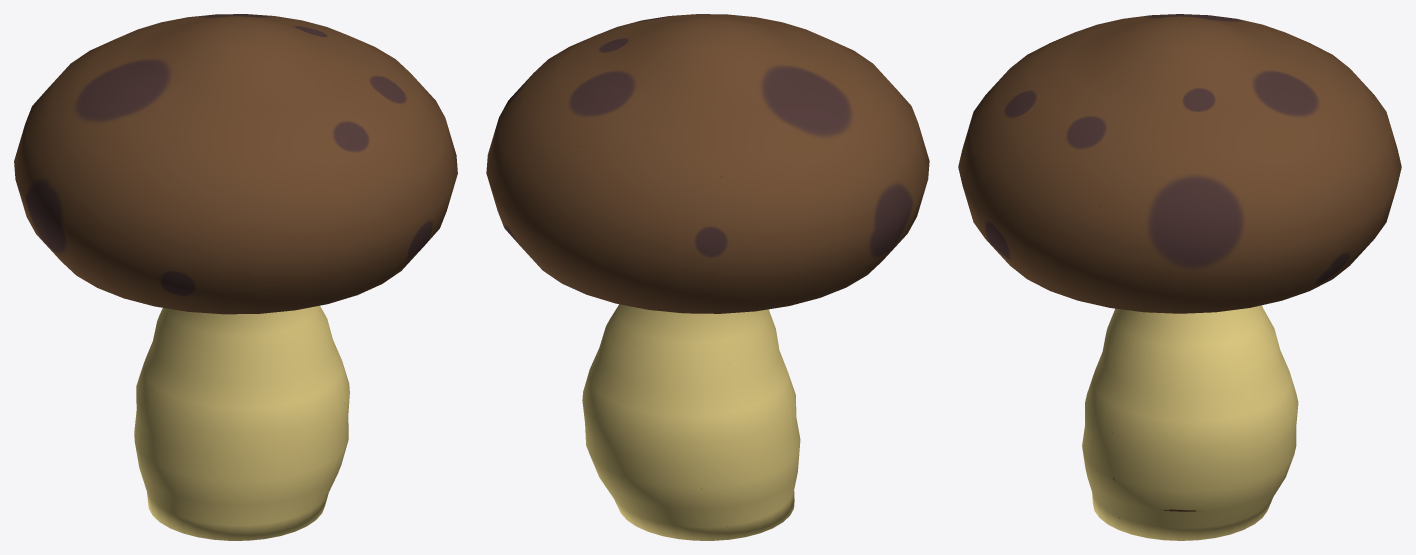
The model's file is bolet-optimized.glb.
3 views of the same model, side by side, from view 1: azimuth 30°, elevation 25°; view 2: azimuth 150°, elevation 25°; view 3: azimuth 270°, elevation 25° (orthographic).
Visible parts, largest first — view 1: Sphere; view 2: Sphere; view 3: Sphere.
Boxes of the visible parts, left/top/right/bottom form: Sphere: left=14, top=14, right=457, bottom=540; Sphere: left=486, top=14, right=929, bottom=540; Sphere: left=958, top=14, right=1401, bottom=540.
Size of the model in its own units: 0.6068 by 0.7134 by 0.6068.
Materials: 1 (1 with a texture image).
